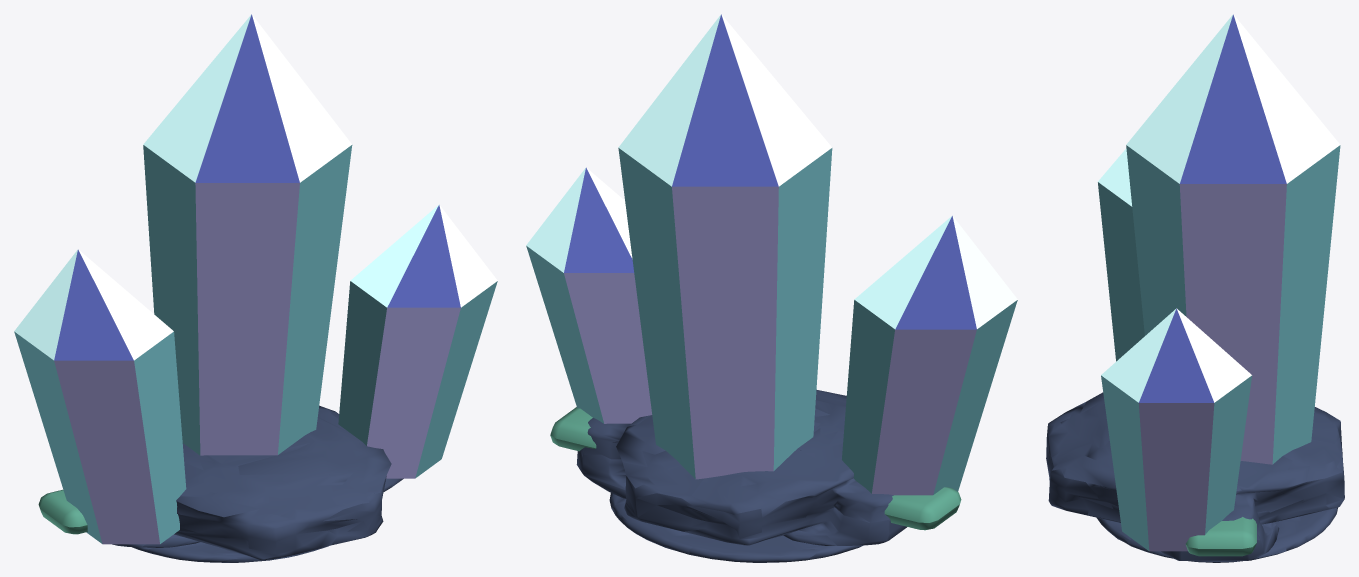
File: crystal.glb
The picture shows the model from 3 angles, left to right: view 1: azimuth 30°, elevation 25°; view 2: azimuth 150°, elevation 25°; view 3: azimuth 270°, elevation 25°; orthographic projection. The views are drawn at different scales.
Visible parts, largest first — view 1: Main crystal, Left crystal, Right crystal, Tripo core flattened mineral foundation, Broad moss patch; view 2: Main crystal, Left crystal, Tripo core flattened mineral foundation, Right crystal, Broad moss patch, Broad moss patch.001; view 3: Main crystal, Right crystal, Tripo core flattened mineral foundation, Left crystal, Broad moss patch.001.
Boxes of the visible parts, x1,y1,x2,y2 form: Main crystal: (143, 14, 352, 455); Left crystal: (14, 249, 186, 544); Right crystal: (338, 204, 497, 478); Tripo core flattened mineral foundation: (112, 405, 403, 562); Broad moss patch: (38, 489, 87, 534); Main crystal: (618, 14, 832, 479); Left crystal: (842, 215, 1017, 495); Tripo core flattened mineral foundation: (576, 390, 906, 562); Right crystal: (526, 167, 652, 423); Broad moss patch: (884, 487, 961, 530); Broad moss patch.001: (550, 407, 596, 451); Main crystal: (1126, 14, 1340, 464); Right crystal: (1101, 308, 1252, 551); Tripo core flattened mineral foundation: (1046, 392, 1344, 562); Left crystal: (1098, 148, 1144, 361); Broad moss patch.001: (1185, 517, 1256, 556).
Size of the model in its own units: 1.67 by 1.75 by 0.9475.
